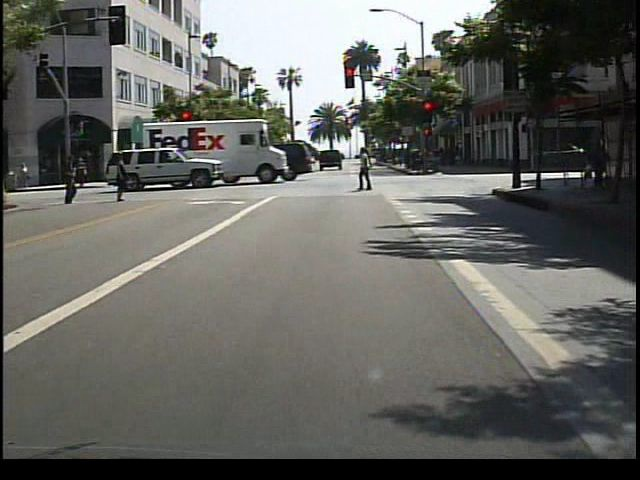person: (583, 136, 614, 197), (107, 150, 133, 206), (355, 146, 381, 194), (60, 157, 83, 207)
